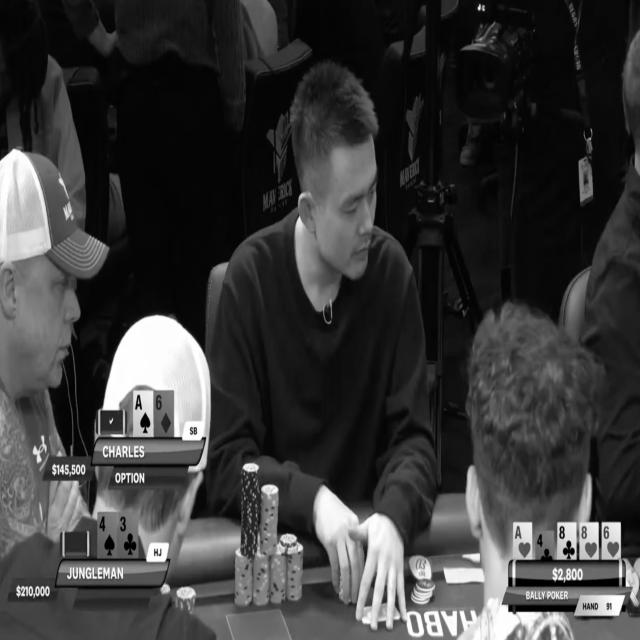3C: (117, 511, 139, 559)
4C: (535, 532, 554, 560)
4S: (98, 512, 118, 559)
6D: (153, 391, 175, 438)
8C: (558, 521, 577, 560)
8H: (602, 523, 621, 561), (581, 522, 599, 561)
AH: (512, 522, 532, 558)
AS: (134, 390, 154, 437)
